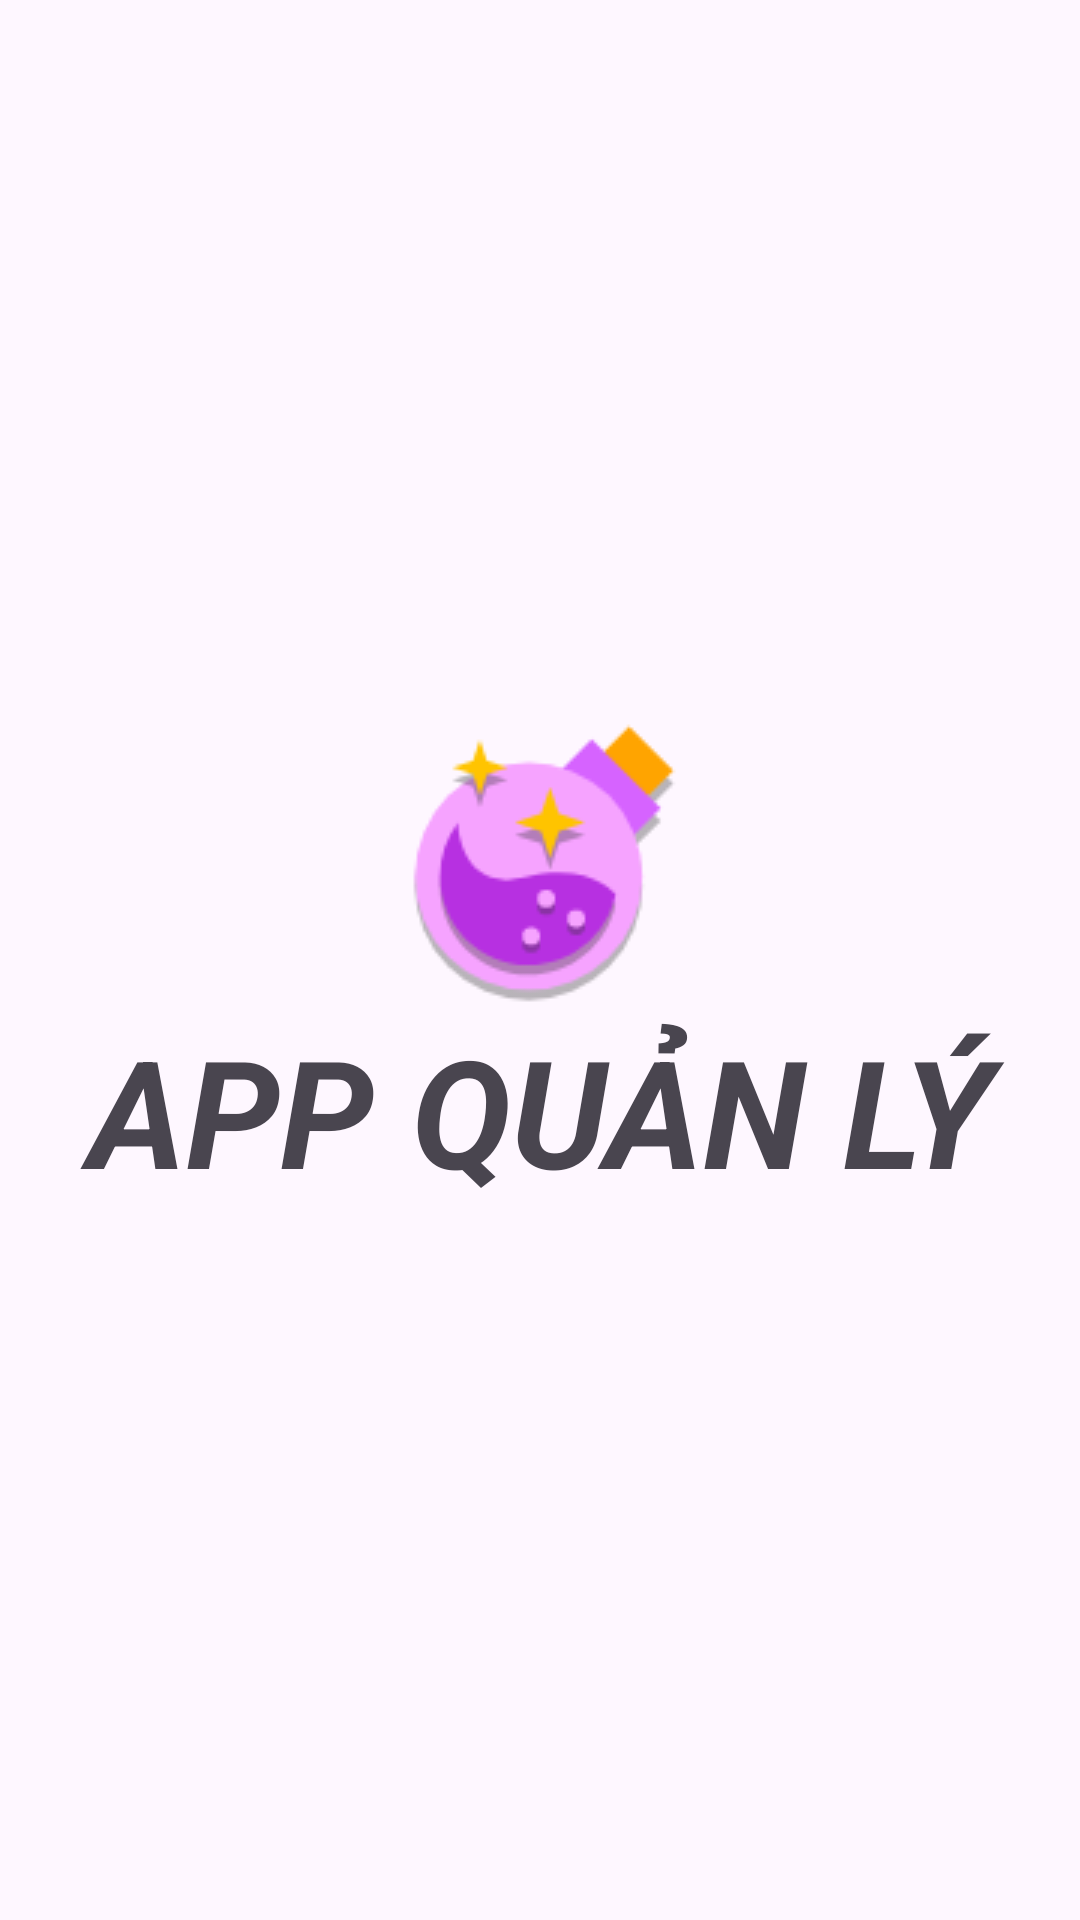

Icons on this 1080×1920 Android screen, each with its box as (x1, y1, x2, y2):
mana: (414, 725, 675, 1001)
